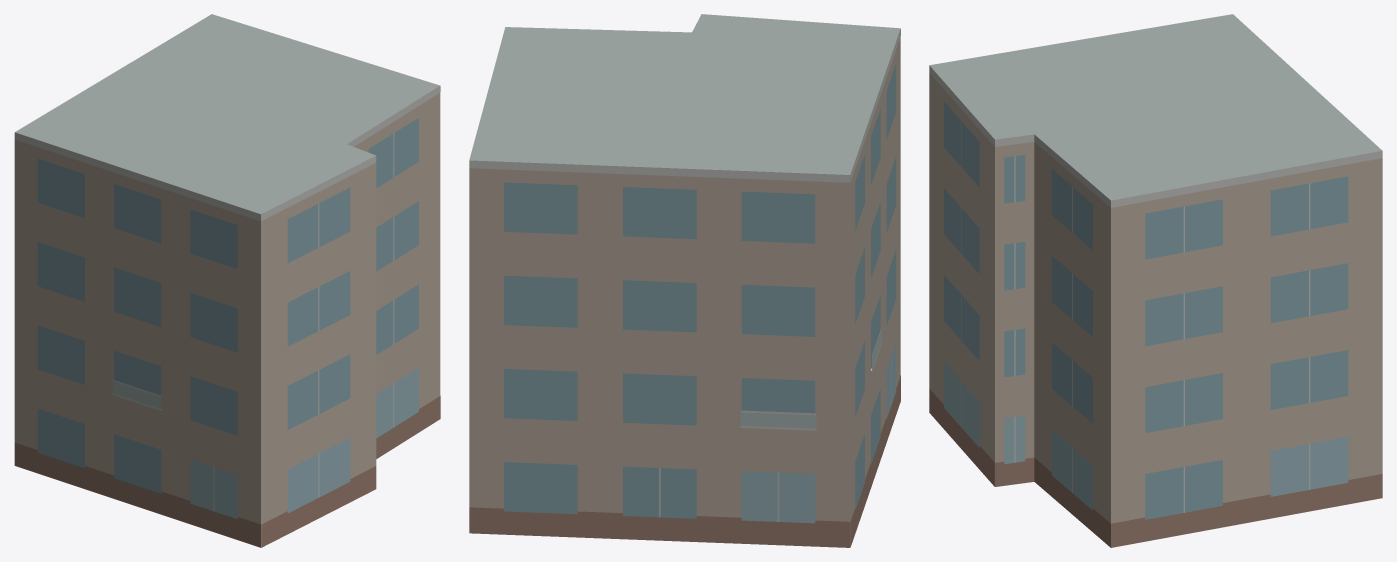
The model's file is survey-upis-32854633.glb.
3 views of the same model, side by side, from view 1: azimuth 30°, elevation 25°; view 2: azimuth 150°, elevation 25°; view 3: azimuth 270°, elevation 25° (orthographic). The views are drawn at different scales.
Parts seen in each view (by area): view 1: survey-upis-32854633.tmp; view 2: survey-upis-32854633.tmp; view 3: survey-upis-32854633.tmp.
Boxes of the visible parts, x1,y1,x2,y2 form: survey-upis-32854633.tmp: [14, 14, 440, 547]; survey-upis-32854633.tmp: [469, 14, 900, 547]; survey-upis-32854633.tmp: [929, 14, 1382, 547].
Bounding box in the file's own units: 13.49 × 11.7 × 13.85.
